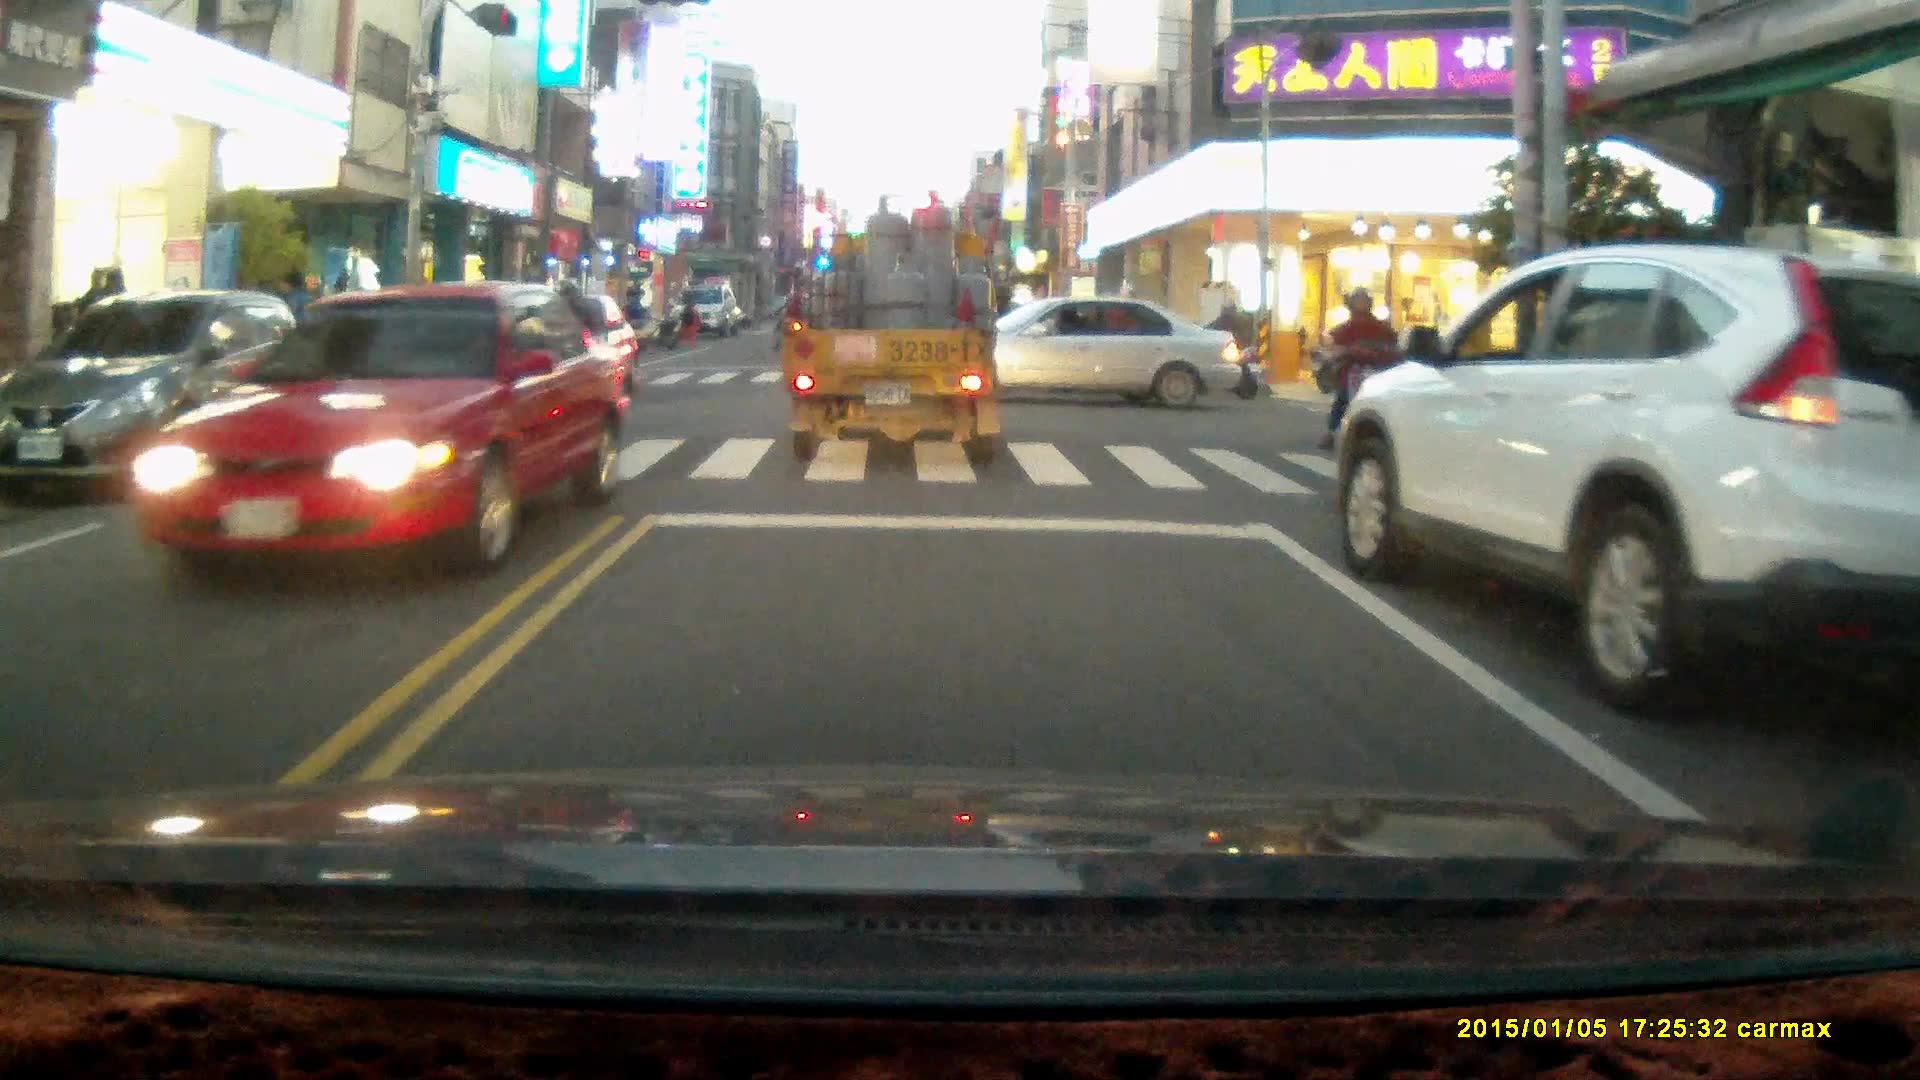rider: (1316, 280, 1410, 467), (1170, 294, 1263, 398)
vehicle: (1329, 239, 1920, 720), (117, 277, 638, 580), (784, 191, 1011, 464), (916, 295, 1244, 412), (672, 284, 739, 336)
